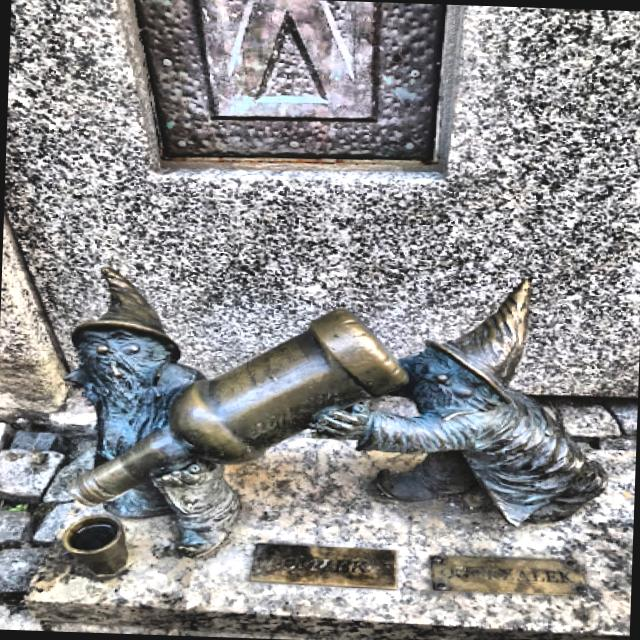Ogorzalek_i_Opilek: (68, 268, 605, 555)
